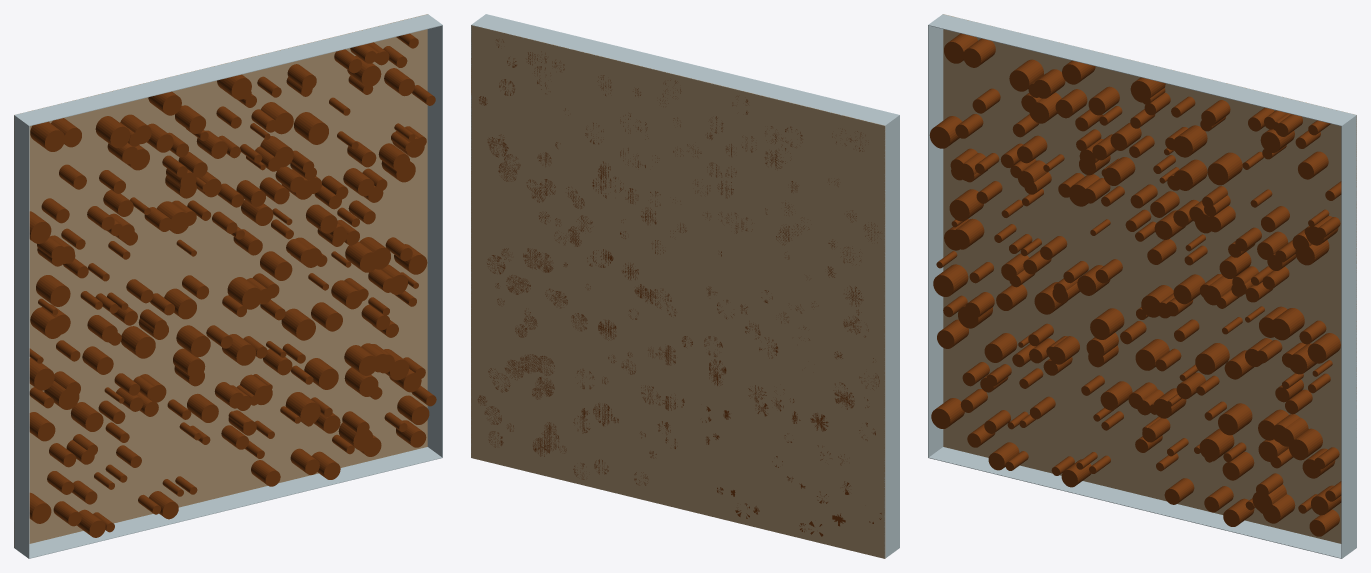
Rendered from mesh_forest.dae.
3 renders of one model, left to right at view 1: azimuth 30°, elevation 25°; view 2: azimuth 150°, elevation 25°; view 3: azimuth 330°, elevation 25°, orthographic.
Parts seen in each view (by area): view 1: node; view 2: node; view 3: node.
Boxes of the visible parts, x1=… form: node: x1=14, y1=14, x2=442, y2=558; node: x1=471, y1=14, x2=899, y2=558; node: x1=928, y1=14, x2=1356, y2=558.
Size of the model in its own units: 80 by 80 by 5.
